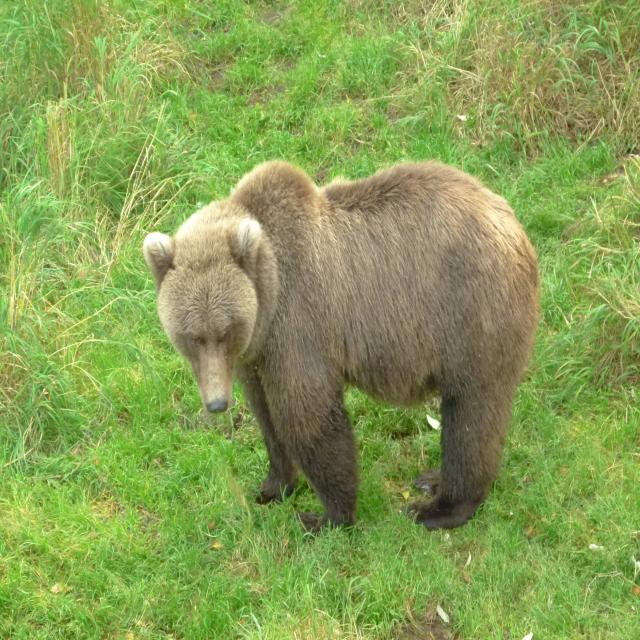bear face: (146, 160, 539, 529), (268, 417, 269, 423)
